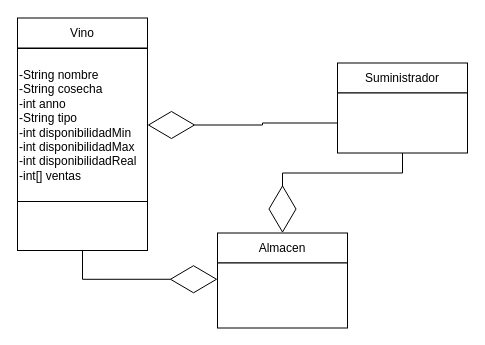
The diagram is 485 pixels wide and 345 high, and some of its shapes have lost their labels. Here are the shapes that lost their labels. From the top down, the centre of each, then its label:
At (402,122): "-String nombre -String pais -int tiempo".
At (82,225): "+pushVenta() +verificarSiDebePedir()".
